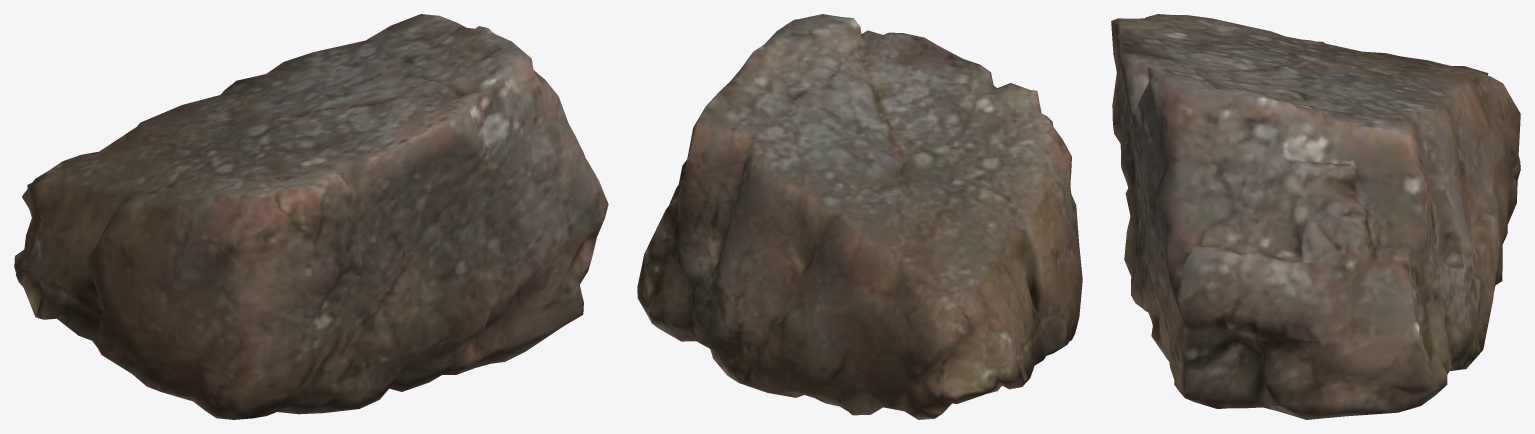
The model's file is S_Nordic_Beach_Boulder_vb1mcicfa_lod3_Var1_459a14.glb.
3 renders of one model, left to right at view 1: azimuth 30°, elevation 25°; view 2: azimuth 150°, elevation 25°; view 3: azimuth 270°, elevation 25°, orthographic. The views are drawn at different scales.
Bounding box in the file's own units: 1.81 × 1.16 × 1.36.
Materials: 1 (1 with a texture image).
